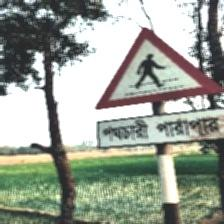Pedestrian-crossing: (94, 24, 224, 150)
